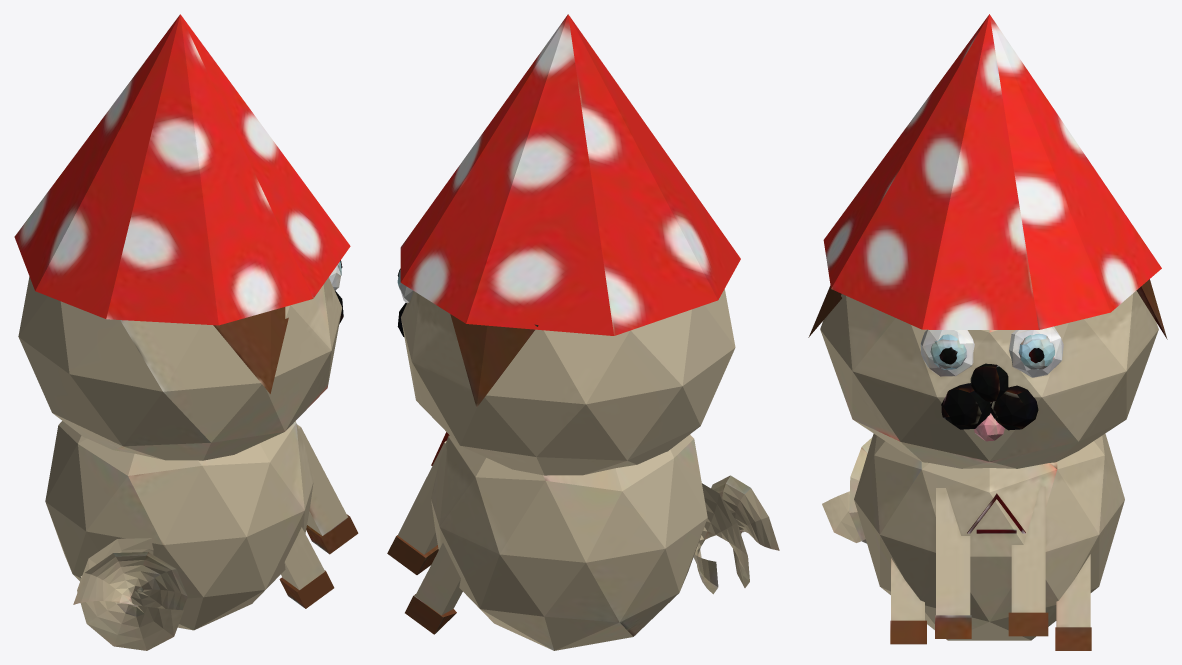
File: pug.dae
3 renders of one model, left to right at view 1: azimuth 30°, elevation 25°; view 2: azimuth 150°, elevation 25°; view 3: azimuth 270°, elevation 25°, orthographic. The views are drawn at different scales.
Visible parts, largest first — view 1: SketchUp_001; view 2: SketchUp_001; view 3: SketchUp_001.
Boxes of the visible parts, bbox=[...] form: SketchUp_001: bbox=[14, 14, 358, 650]; SketchUp_001: bbox=[387, 14, 779, 650]; SketchUp_001: bbox=[808, 14, 1167, 650].
Bounding box in the file's own units: 0.2624 × 0.2594 × 0.495.
Materials: 1 (1 with a texture image).
